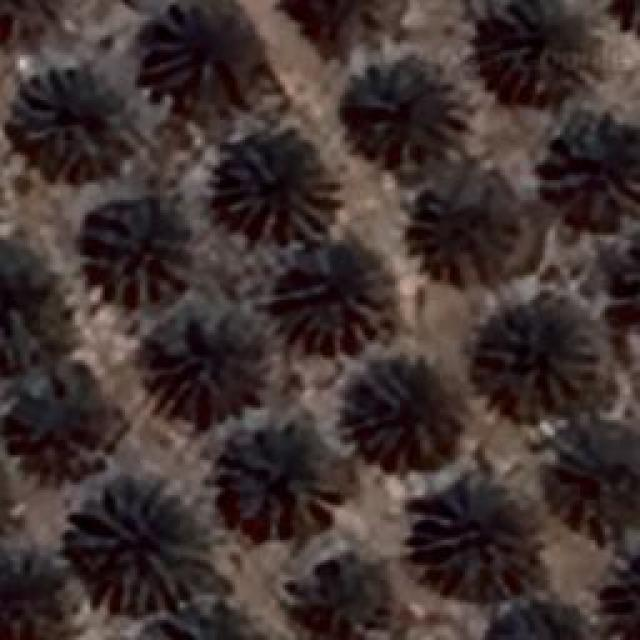PalmTree: (79, 78, 338, 601), (31, 87, 79, 596), (68, 477, 202, 615), (215, 412, 350, 538), (10, 60, 140, 178), (272, 235, 398, 355), (467, 302, 595, 416), (340, 355, 460, 475), (215, 142, 343, 240), (478, 0, 600, 98), (421, 492, 531, 598), (542, 415, 640, 533), (80, 200, 190, 302), (341, 64, 461, 154), (146, 2, 249, 106), (157, 314, 265, 408), (4, 378, 114, 470), (410, 184, 520, 274), (550, 116, 640, 226), (0, 255, 62, 372), (283, 0, 399, 47), (148, 599, 270, 640), (484, 600, 597, 640), (611, 546, 640, 640), (616, 228, 640, 326), (0, 0, 63, 37), (621, 225, 640, 328), (620, 549, 640, 640), (598, 0, 640, 36)
